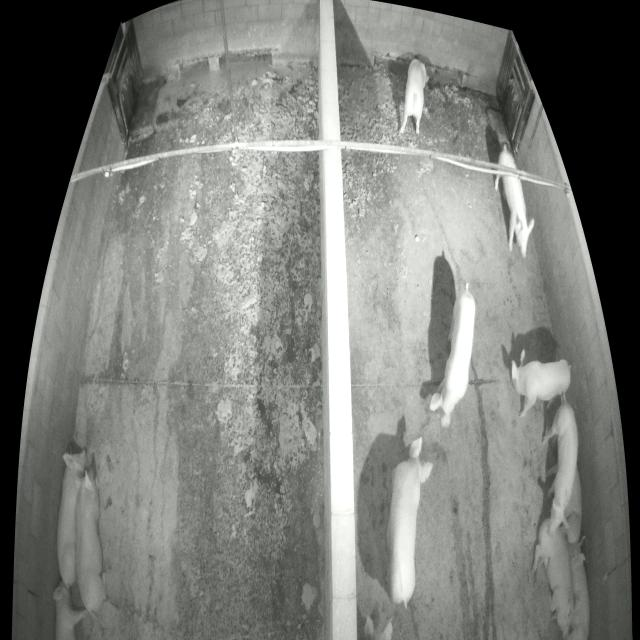pig: (386, 436, 433, 605), (430, 290, 475, 431), (530, 518, 582, 637), (75, 466, 107, 614), (542, 401, 578, 529), (56, 449, 88, 588), (509, 349, 571, 420), (494, 150, 534, 259), (398, 59, 429, 135), (568, 541, 590, 639), (53, 580, 88, 640), (562, 466, 583, 545), (364, 616, 393, 636)
